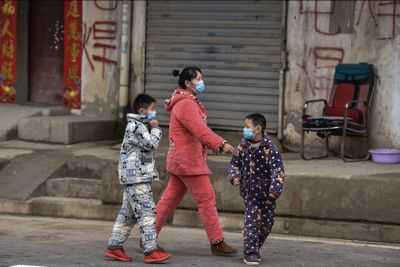with-mask: (128, 92, 165, 129), (177, 63, 208, 103), (239, 110, 266, 146)
